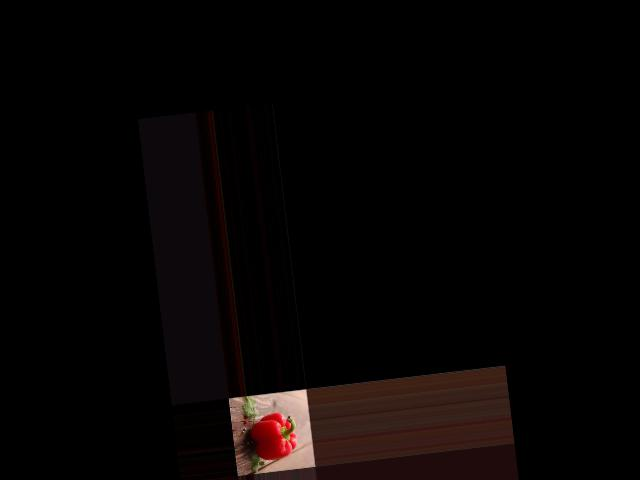bell_pepper: (247, 408, 302, 465)
